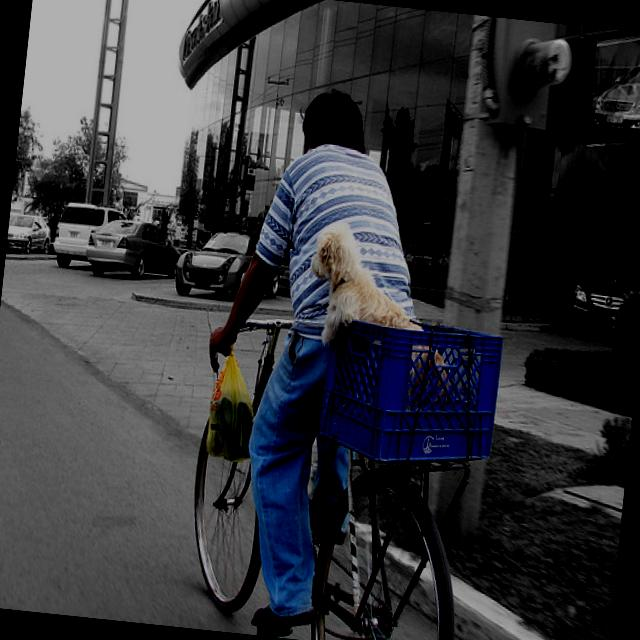Vehicle: (173, 225, 286, 308), (565, 226, 640, 341), (81, 214, 182, 283), (53, 199, 132, 276), (590, 54, 640, 145), (6, 212, 52, 252)
